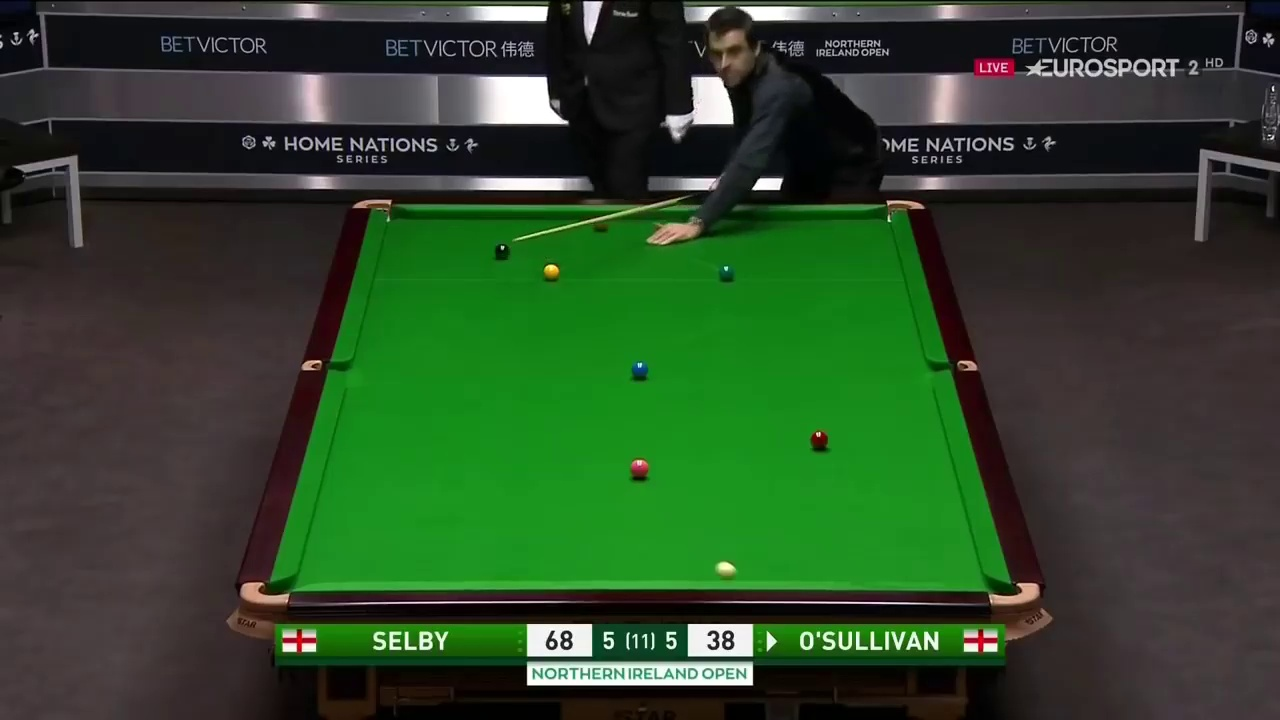ball: (627, 357, 649, 380), (629, 459, 653, 479), (807, 430, 830, 450), (715, 264, 735, 282), (494, 239, 510, 258), (542, 264, 562, 278)
